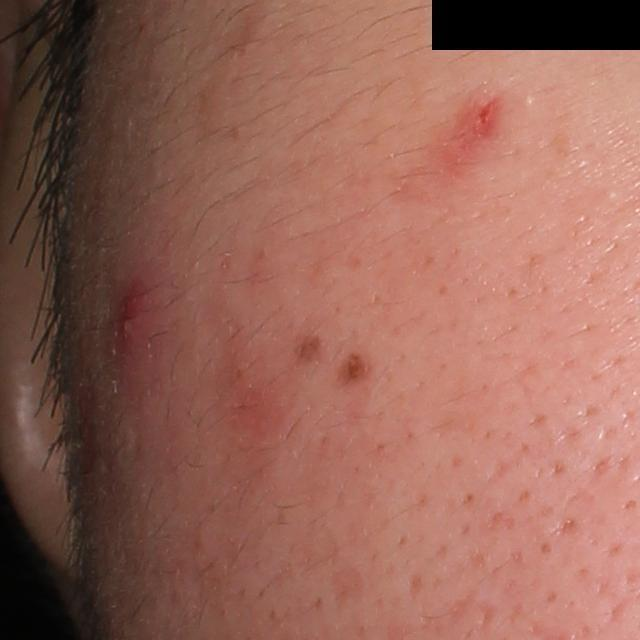nevus: (341, 352, 374, 388), (293, 332, 321, 365)
papule: (106, 275, 161, 371), (466, 96, 501, 141)
